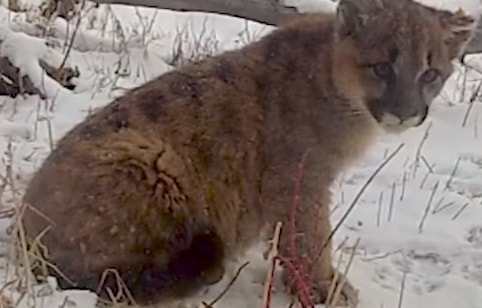Mountain Lion: (8, 2, 476, 302)
